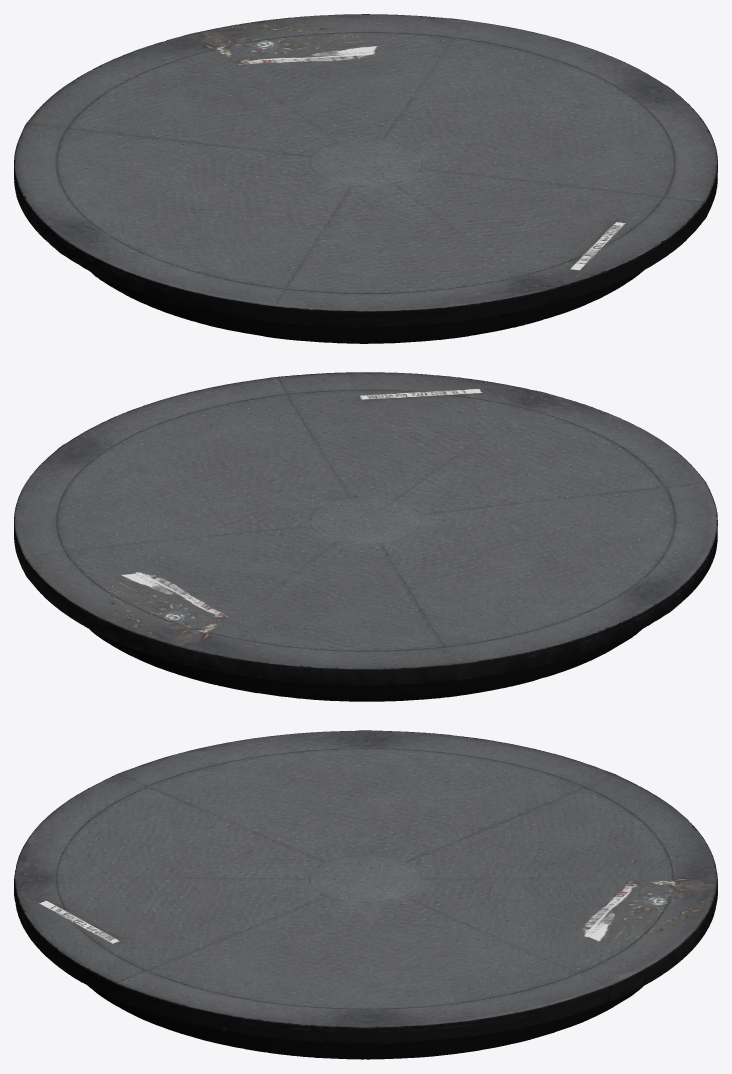
File: rotation_platform.glb
The picture shows the model from 3 angles, top to bottom: view 1: azimuth 30°, elevation 25°; view 2: azimuth 150°, elevation 25°; view 3: azimuth 270°, elevation 25°; orthographic projection.
Parts seen in each view (by area): view 1: Mesh_0; view 2: Mesh_0; view 3: Mesh_0.
Boxes of the visible parts, left/top/right/bottom form: Mesh_0: left=14, top=14, right=717, bottom=343; Mesh_0: left=14, top=372, right=717, bottom=701; Mesh_0: left=14, top=730, right=717, bottom=1059.
Size of the model in its own units: 1.91 by 0.1673 by 1.91.
1 material, 1 textured.
